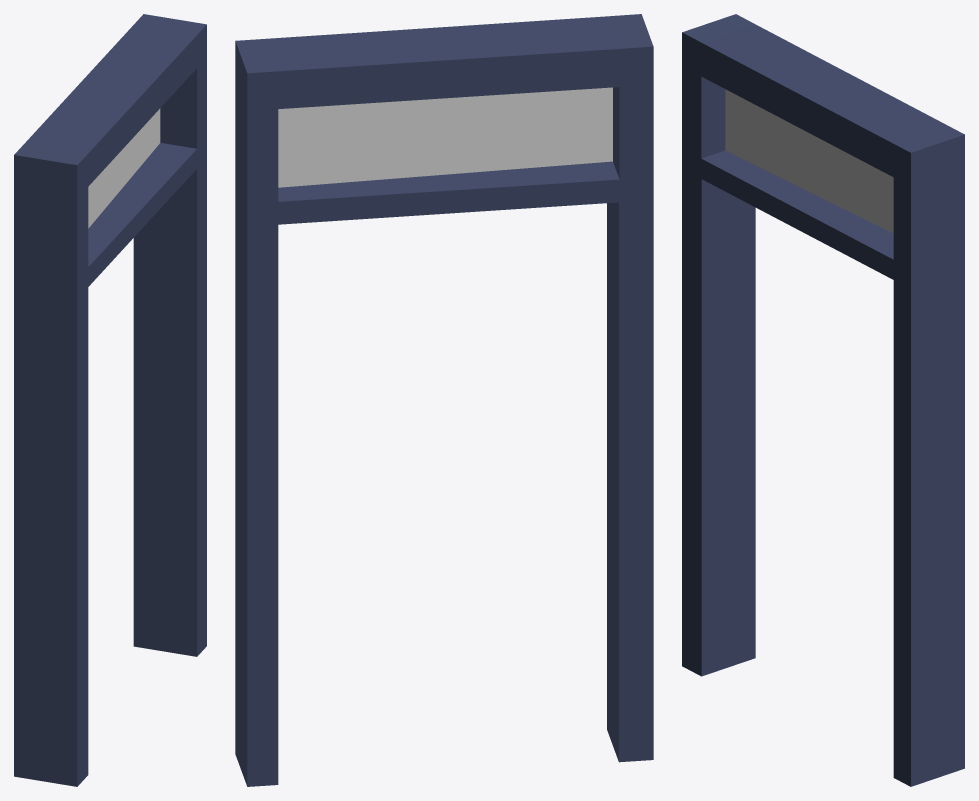
Rendered from kayubiru+ventilasi2.fbx.
3 renders of one model, left to right at view 1: azimuth 30°, elevation 25°; view 2: azimuth 150°, elevation 25°; view 3: azimuth 270°, elevation 25°, orthographic. The views are drawn at different scales.
Parts seen in each view (by area): view 1: Pinggiran Pintu.001; view 2: Pinggiran Pintu.001; view 3: Pinggiran Pintu.001.
Part boxes in pixels (x1=…): Pinggiran Pintu.001: x1=14, y1=14, x2=206, y2=786; Pinggiran Pintu.001: x1=235, y1=14, x2=653, y2=786; Pinggiran Pintu.001: x1=682, y1=14, x2=964, y2=786.
Size of the model in its own units: 107 by 229 by 92.57.
